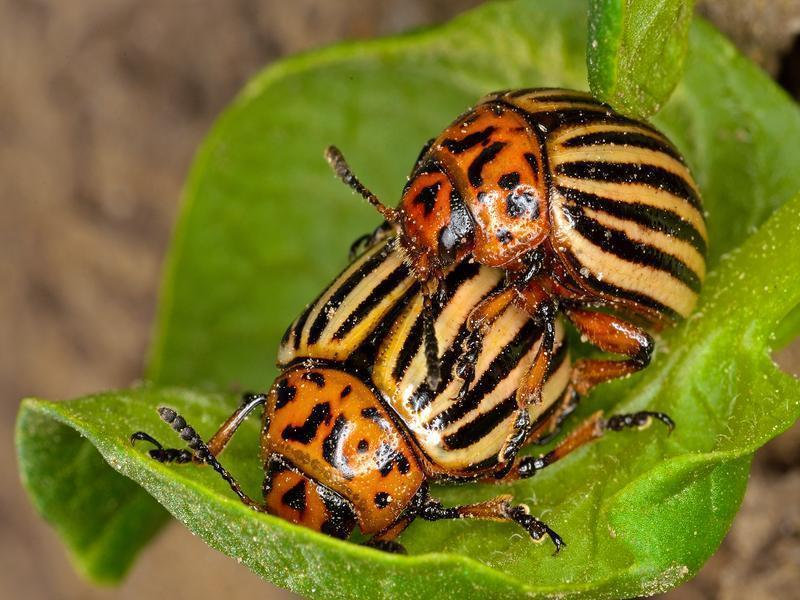hrosc: (207, 215, 496, 545), (390, 56, 716, 337)
